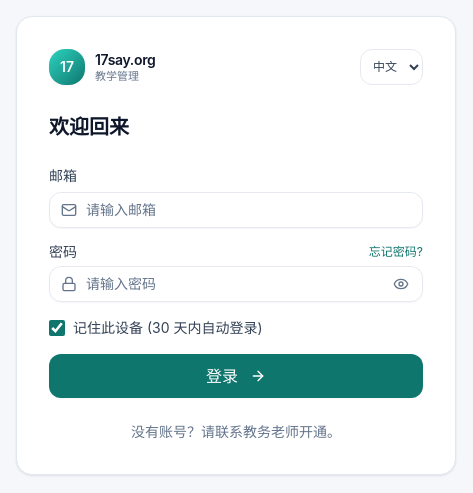
Scenario: 显示密码按钮保持输入内容且不会提交登录
Type "test-password" into the password field labelled "密码".
click(236, 284); type("test-password")  # box [49,266,423,302]
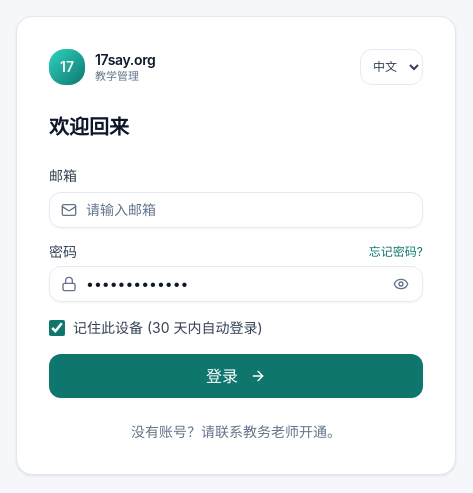
Click the button named "显示密码".
click(401, 284)  # box [379,266,423,302]
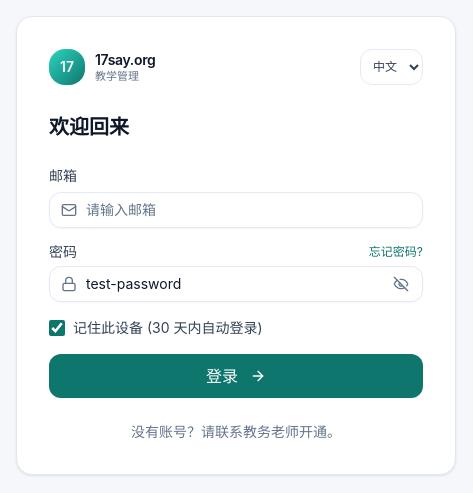
Now the field labelled "密码" shows its text, box [49,266,423,302]
Click the button named "隐藏密码".
click(401, 284)  # box [379,266,423,302]
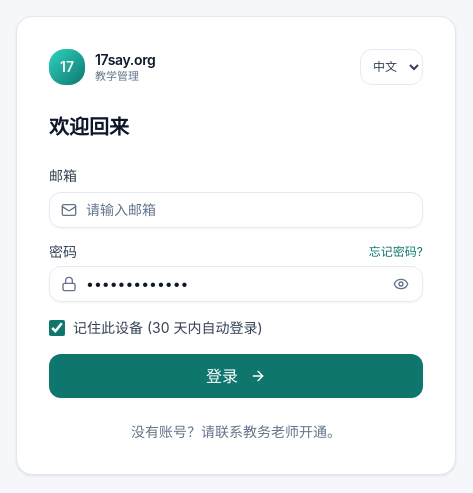
Now the password field labelled "密码" hides its text, box [49,266,423,302]
